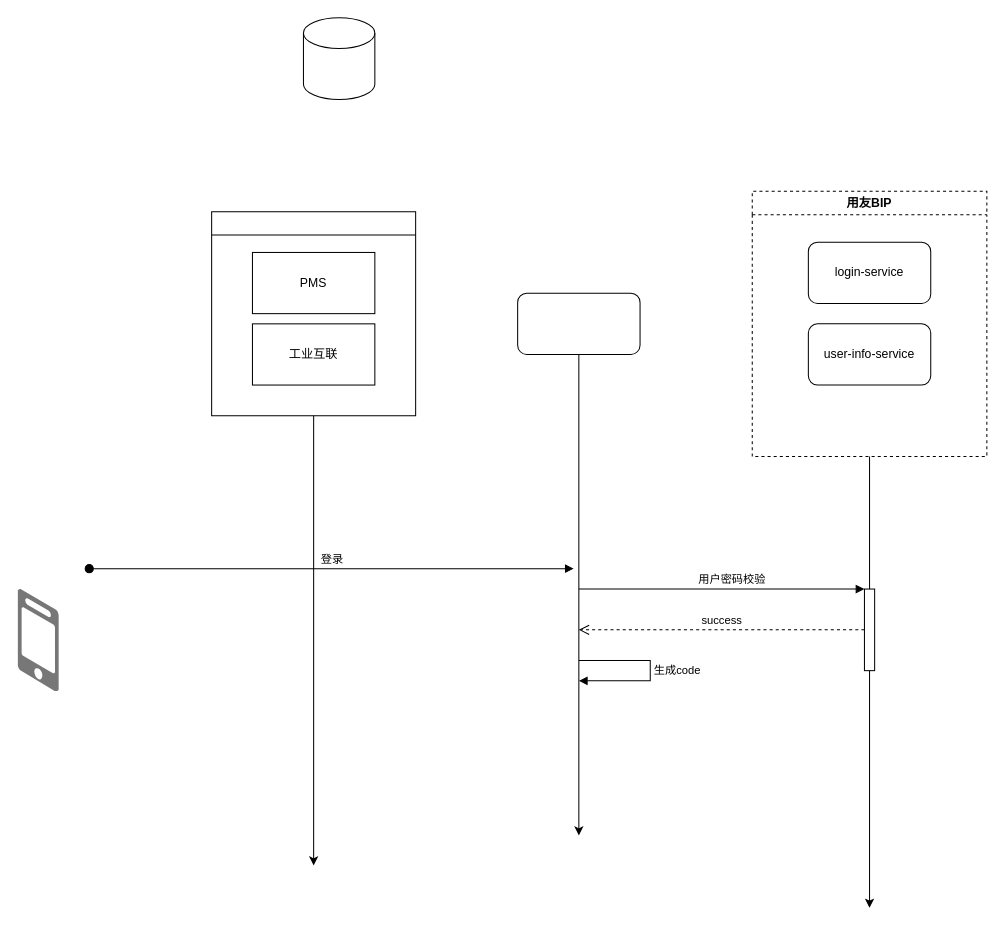
The diagram is 1005 pixels wide and 934 high, and some of its shapes have lost their labels. Here are the shapes that lost their labels. From the top down, the box of each, then its label:
(302, 17, 375, 99): app-authory-db
(211, 211, 416, 416): 业务系统
(517, 292, 640, 354): oidc-service
